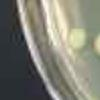white: (64, 25, 90, 53), (90, 30, 100, 60)
